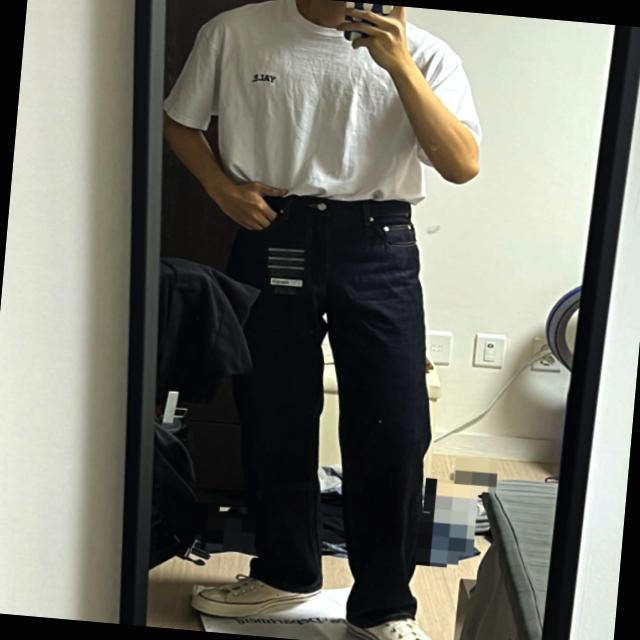denimpants: (192, 186, 456, 630)
shortsleeve: (157, 0, 495, 210)
